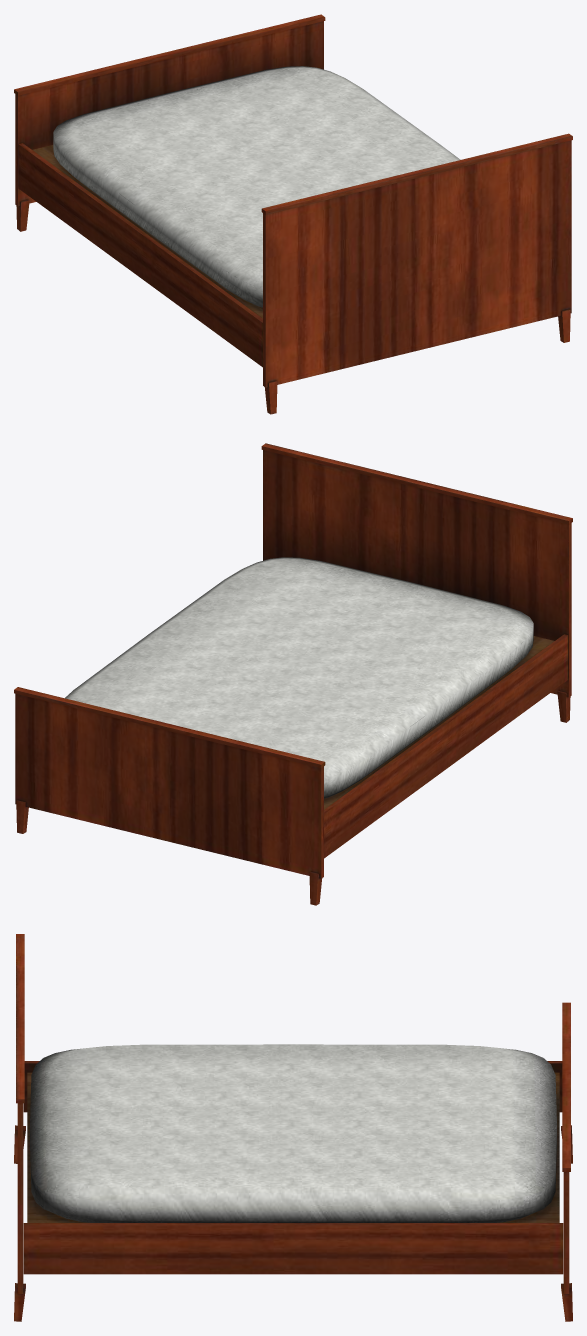
The model's file is bed_double_web.glb.
3 views of the same model, one above another, from view 1: azimuth 30°, elevation 25°; view 2: azimuth 150°, elevation 25°; view 3: azimuth 270°, elevation 25° (orthographic). The views are drawn at different scales.
Parts seen in each view (by area): view 1: BedDouble_Mesh; view 2: BedDouble_Mesh; view 3: BedDouble_Mesh.
Boxes of the visible parts, box(x1,y1,x2,y2) form: BedDouble_Mesh: box(14, 14, 572, 414); BedDouble_Mesh: box(14, 443, 572, 905); BedDouble_Mesh: box(14, 934, 572, 1321).
Size of the model in its own units: 1.45 by 0.917 by 2.07.
Materials: 1 (1 with a texture image).
